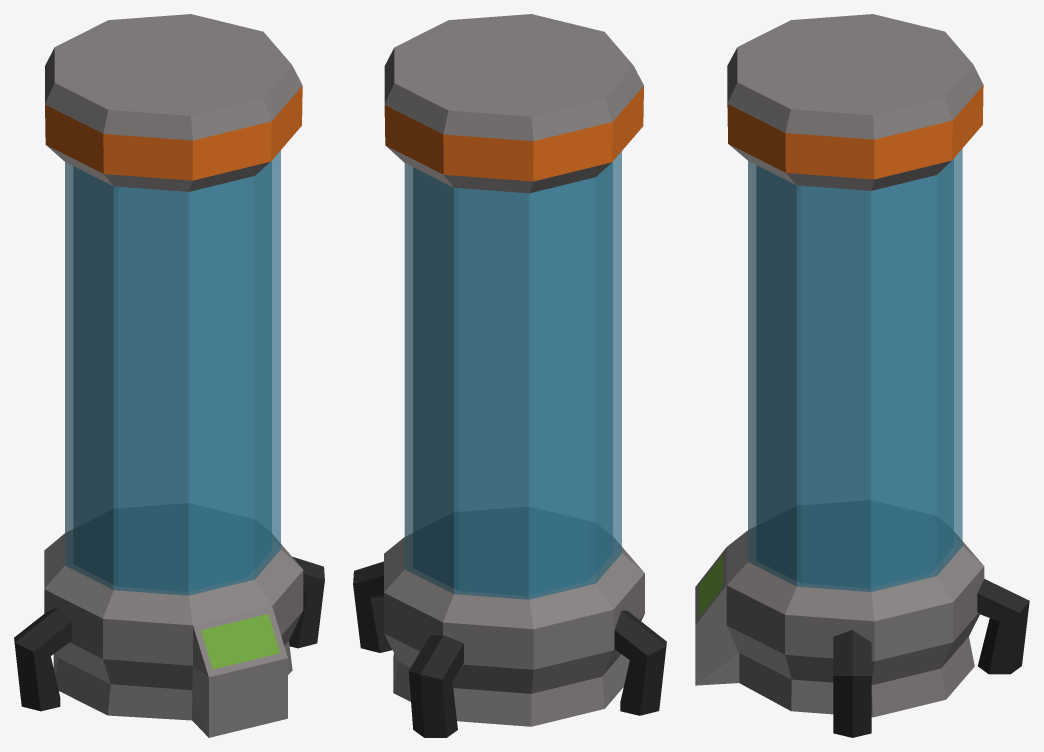
Rendered from scifi-scifi-tube-specimen.glb.
The picture shows the model from 3 angles, left to right: view 1: azimuth 30°, elevation 25°; view 2: azimuth 150°, elevation 25°; view 3: azimuth 270°, elevation 25°; orthographic projection.
Parts seen in each view (by area): view 1: scifi-tube-specimen; view 2: scifi-tube-specimen; view 3: scifi-tube-specimen.
Boxes of the visible parts, x1,y1,x2,y2 form: scifi-tube-specimen: (14, 14, 324, 737); scifi-tube-specimen: (353, 14, 666, 737); scifi-tube-specimen: (695, 14, 1029, 737).
Size of the model in its own units: 1.6 by 3 by 1.51.
